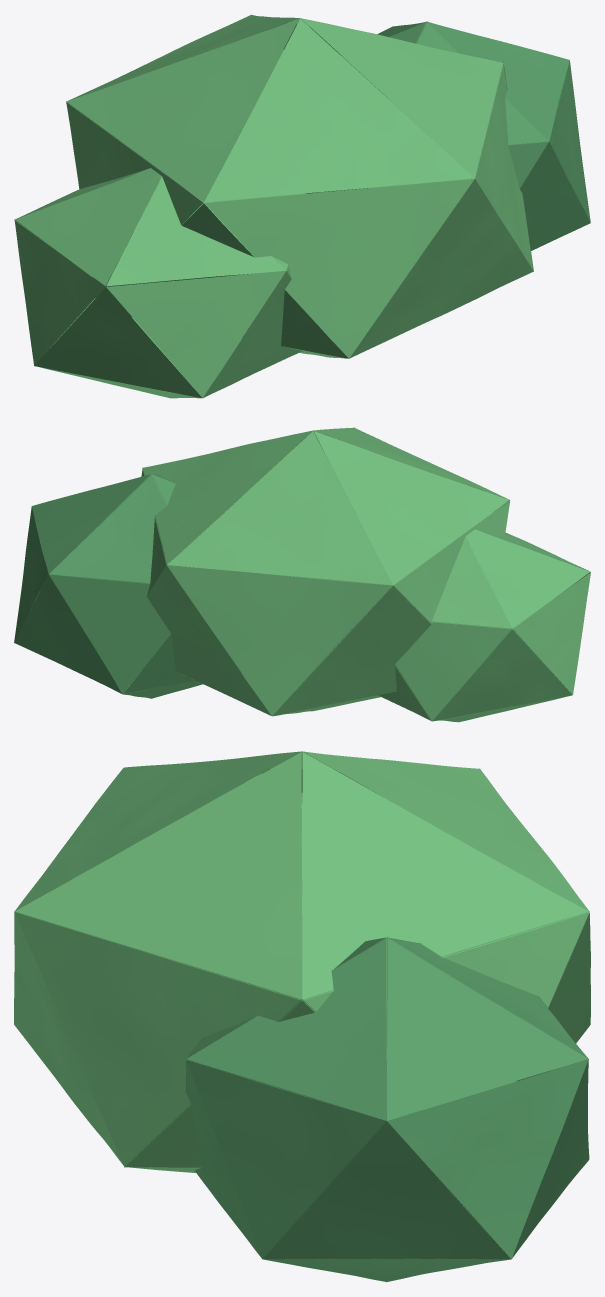
The model's file is bush.glb.
3 renders of one model, top to bottom at view 1: azimuth 30°, elevation 25°; view 2: azimuth 150°, elevation 25°; view 3: azimuth 270°, elevation 25°, orthographic. The views are drawn at different scales.
Parts seen in each view (by area): view 1: Bush; view 2: Bush; view 3: Bush.
Boxes of the visible parts, x1=… form: Bush: x1=14, y1=14, x2=590, y2=398; Bush: x1=14, y1=427, x2=590, y2=722; Bush: x1=14, y1=751, x2=590, y2=1281.
Size of the model in its own units: 1.55 by 0.8408 by 1.02.
